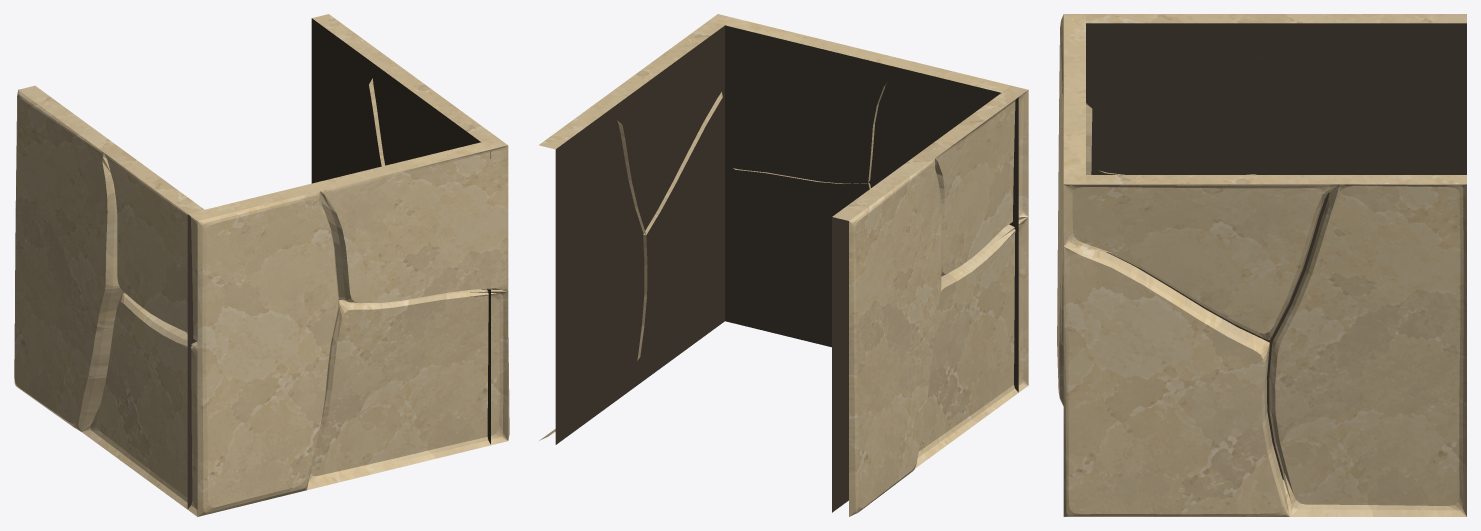
File: ground_end_03.glb
The picture shows the model from 3 angles, left to right: view 1: azimuth 30°, elevation 25°; view 2: azimuth 150°, elevation 25°; view 3: azimuth 270°, elevation 25°; orthographic projection. The views are drawn at different scales.
Parts seen in each view (by area): view 1: GroundEnd03_Body; view 2: GroundEnd03_Body; view 3: GroundEnd03_Body.
Part boxes in pixels (x1=…): GroundEnd03_Body: x1=14, y1=14, x2=509, y2=516; GroundEnd03_Body: x1=539, y1=14, x2=1028, y2=516; GroundEnd03_Body: x1=1057, y1=14, x2=1466, y2=516.
Bounding box in the file's own units: 1.03 × 0.91 × 1.02.
Materials: 11 (10 with a texture image).
